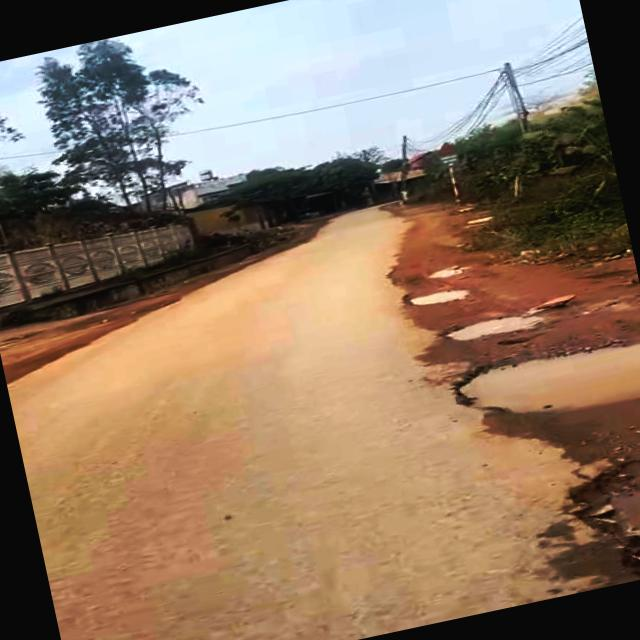pothole: (429, 319, 640, 445), (557, 446, 640, 591), (436, 300, 554, 350), (401, 276, 476, 314)
